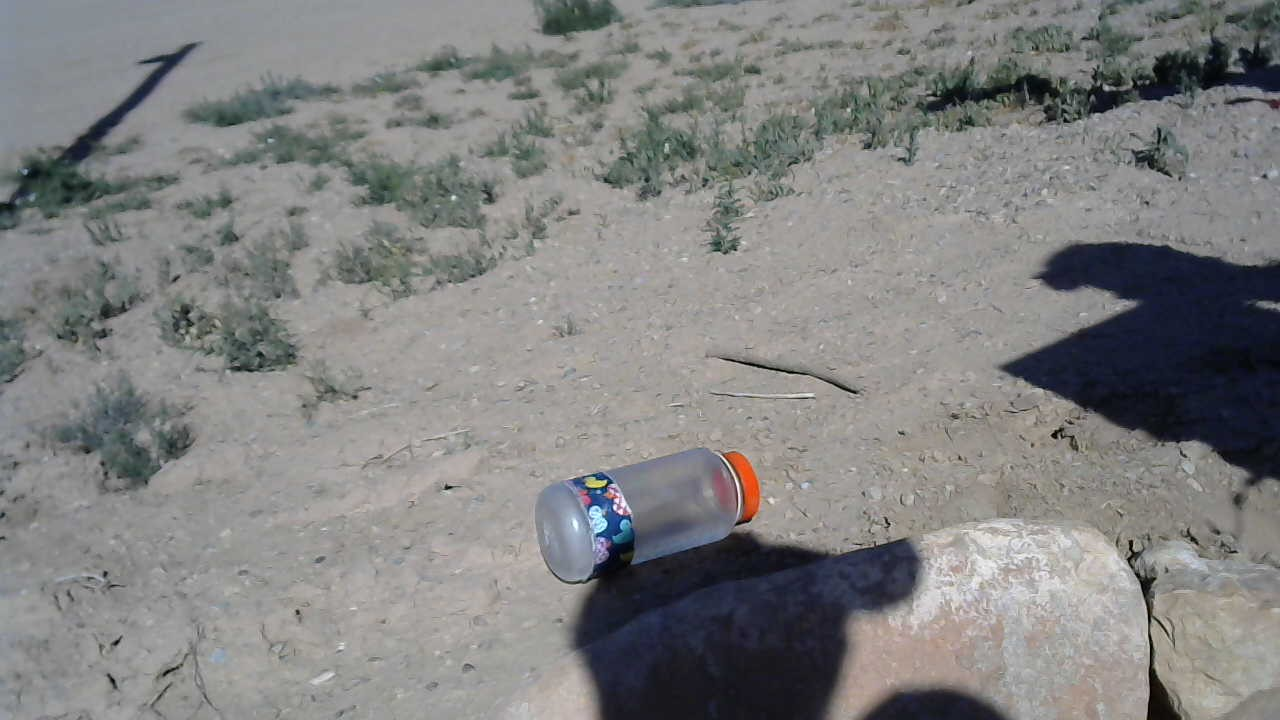bottle: (527, 441, 770, 592)
